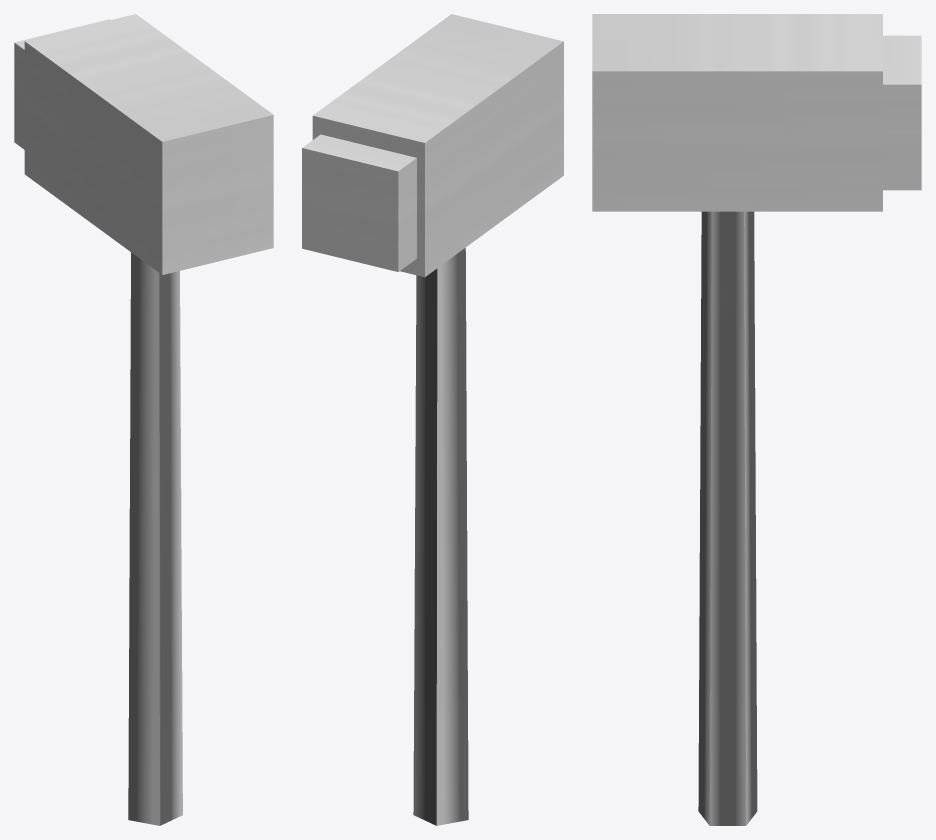
Rendered from tool_hammer.obj.
3 views of the same model, side by side, from view 1: azimuth 30°, elevation 25°; view 2: azimuth 150°, elevation 25°; view 3: azimuth 270°, elevation 25° (orthographic). The views are drawn at different scales.
Parts seen in each view (by area): view 1: tool_hammer; view 2: tool_hammer; view 3: tool_hammer.
Part boxes in pixels (x1,y1,x2,y2): tool_hammer: [14, 14, 273, 825]; tool_hammer: [302, 14, 563, 825]; tool_hammer: [592, 14, 921, 825].
Bounding box in the file's own units: 0.07 × 0.44 × 0.17.
